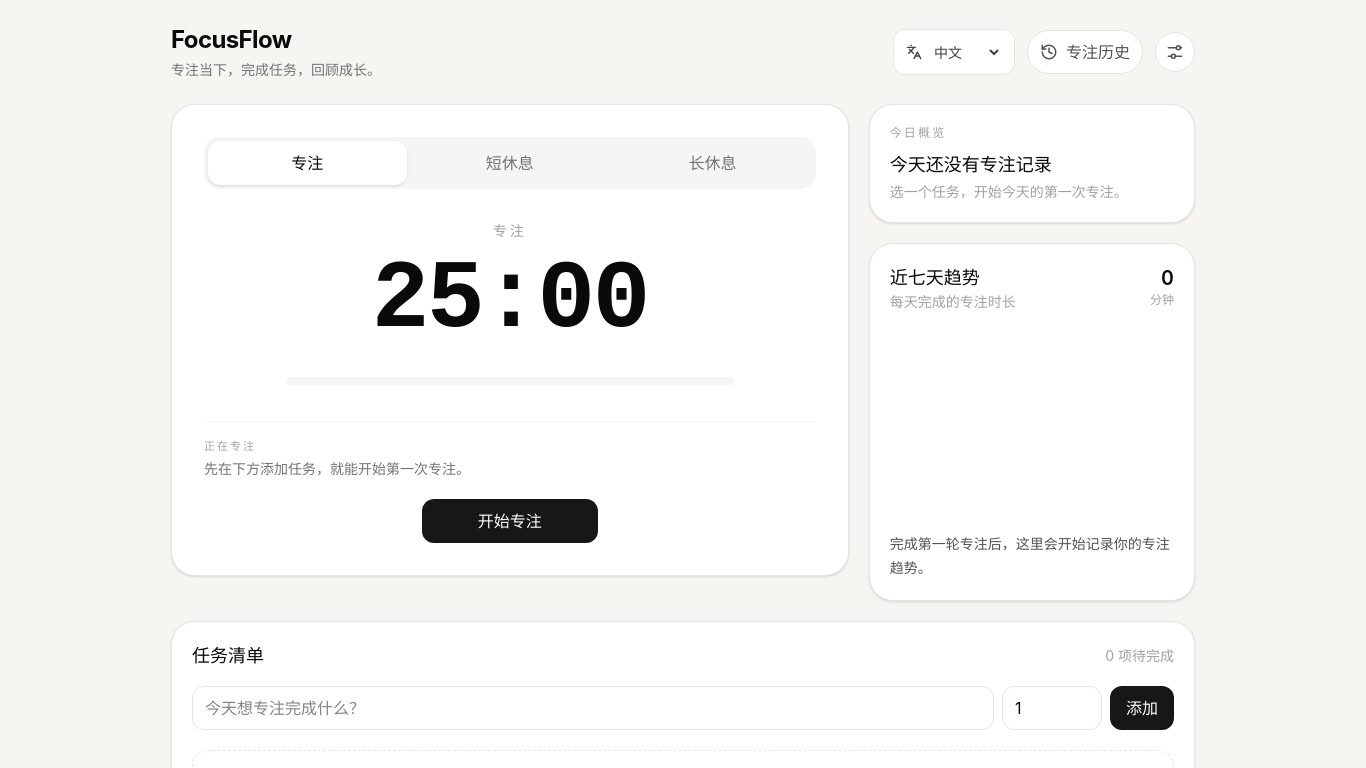
Test: opens in Chinese with the timer first and settings behind an icon
Expected: the heading "今日概览" is shown, [890, 125, 946, 140]
Expected: the heading "任务清单" is shown, [192, 642, 264, 670]
Click the button named "打开设置" at point(1175, 52), box [1155, 32, 1195, 72]
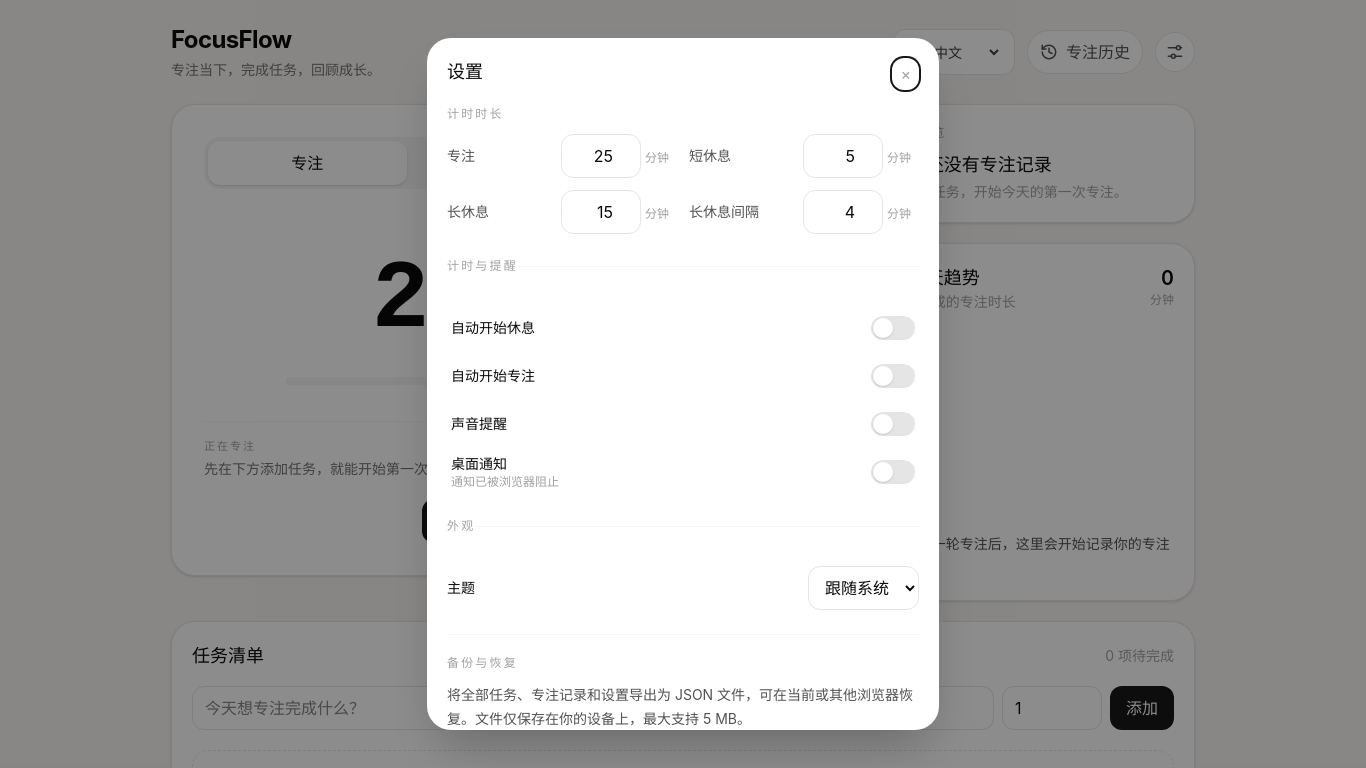
Expected: the switch labelled "声音提醒" is shown, [451, 412, 915, 436]
Expected: the number field labelled "专注" is shown, [561, 134, 641, 178]
